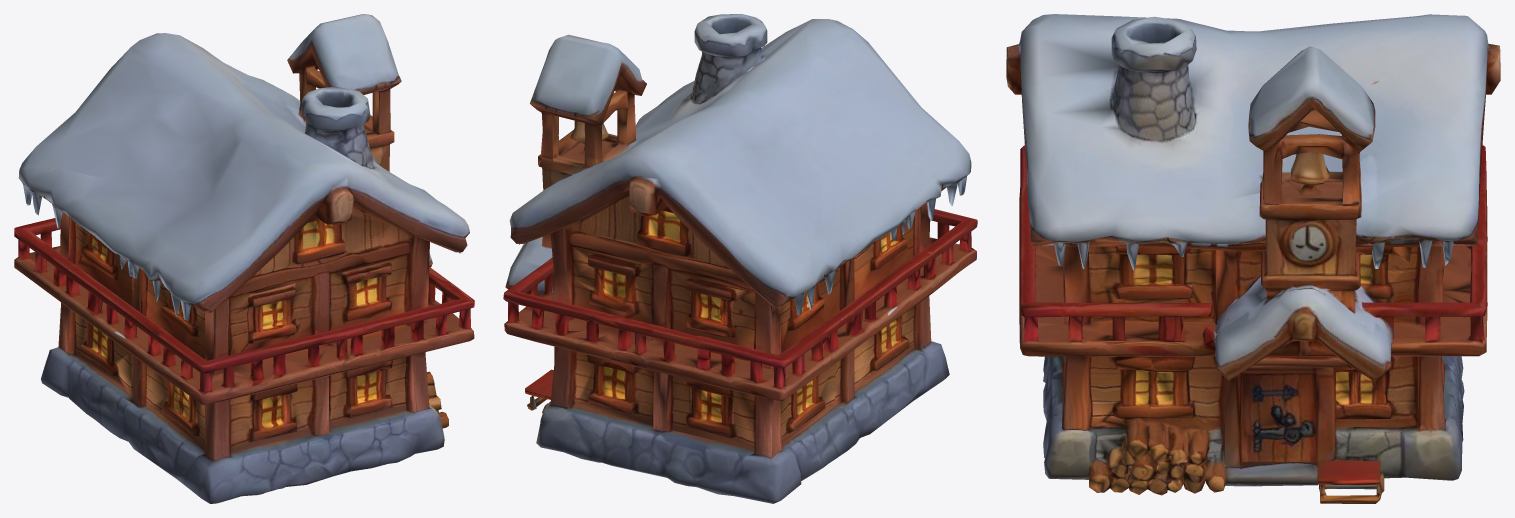
File: snow-lodge-lod-ZPxWmTVl.glb
3 views of the same model, side by side, from view 1: azimuth 30°, elevation 25°; view 2: azimuth 150°, elevation 25°; view 3: azimuth 270°, elevation 25° (orthographic). The views are drawn at different scales.
Parts seen in each view (by area): view 1: tripo_node_1ded6524-b407-4f22-88c5-4fa72bf3872d; view 2: tripo_node_1ded6524-b407-4f22-88c5-4fa72bf3872d; view 3: tripo_node_1ded6524-b407-4f22-88c5-4fa72bf3872d.
Boxes of the visible parts, bbox=[...] form: tripo_node_1ded6524-b407-4f22-88c5-4fa72bf3872d: bbox=[14, 14, 474, 503]; tripo_node_1ded6524-b407-4f22-88c5-4fa72bf3872d: bbox=[503, 14, 977, 503]; tripo_node_1ded6524-b407-4f22-88c5-4fa72bf3872d: bbox=[1006, 14, 1500, 503].
Bounding box in the file's own units: 0.925 × 0.9672 × 0.9997.
1 material, 1 textured.
